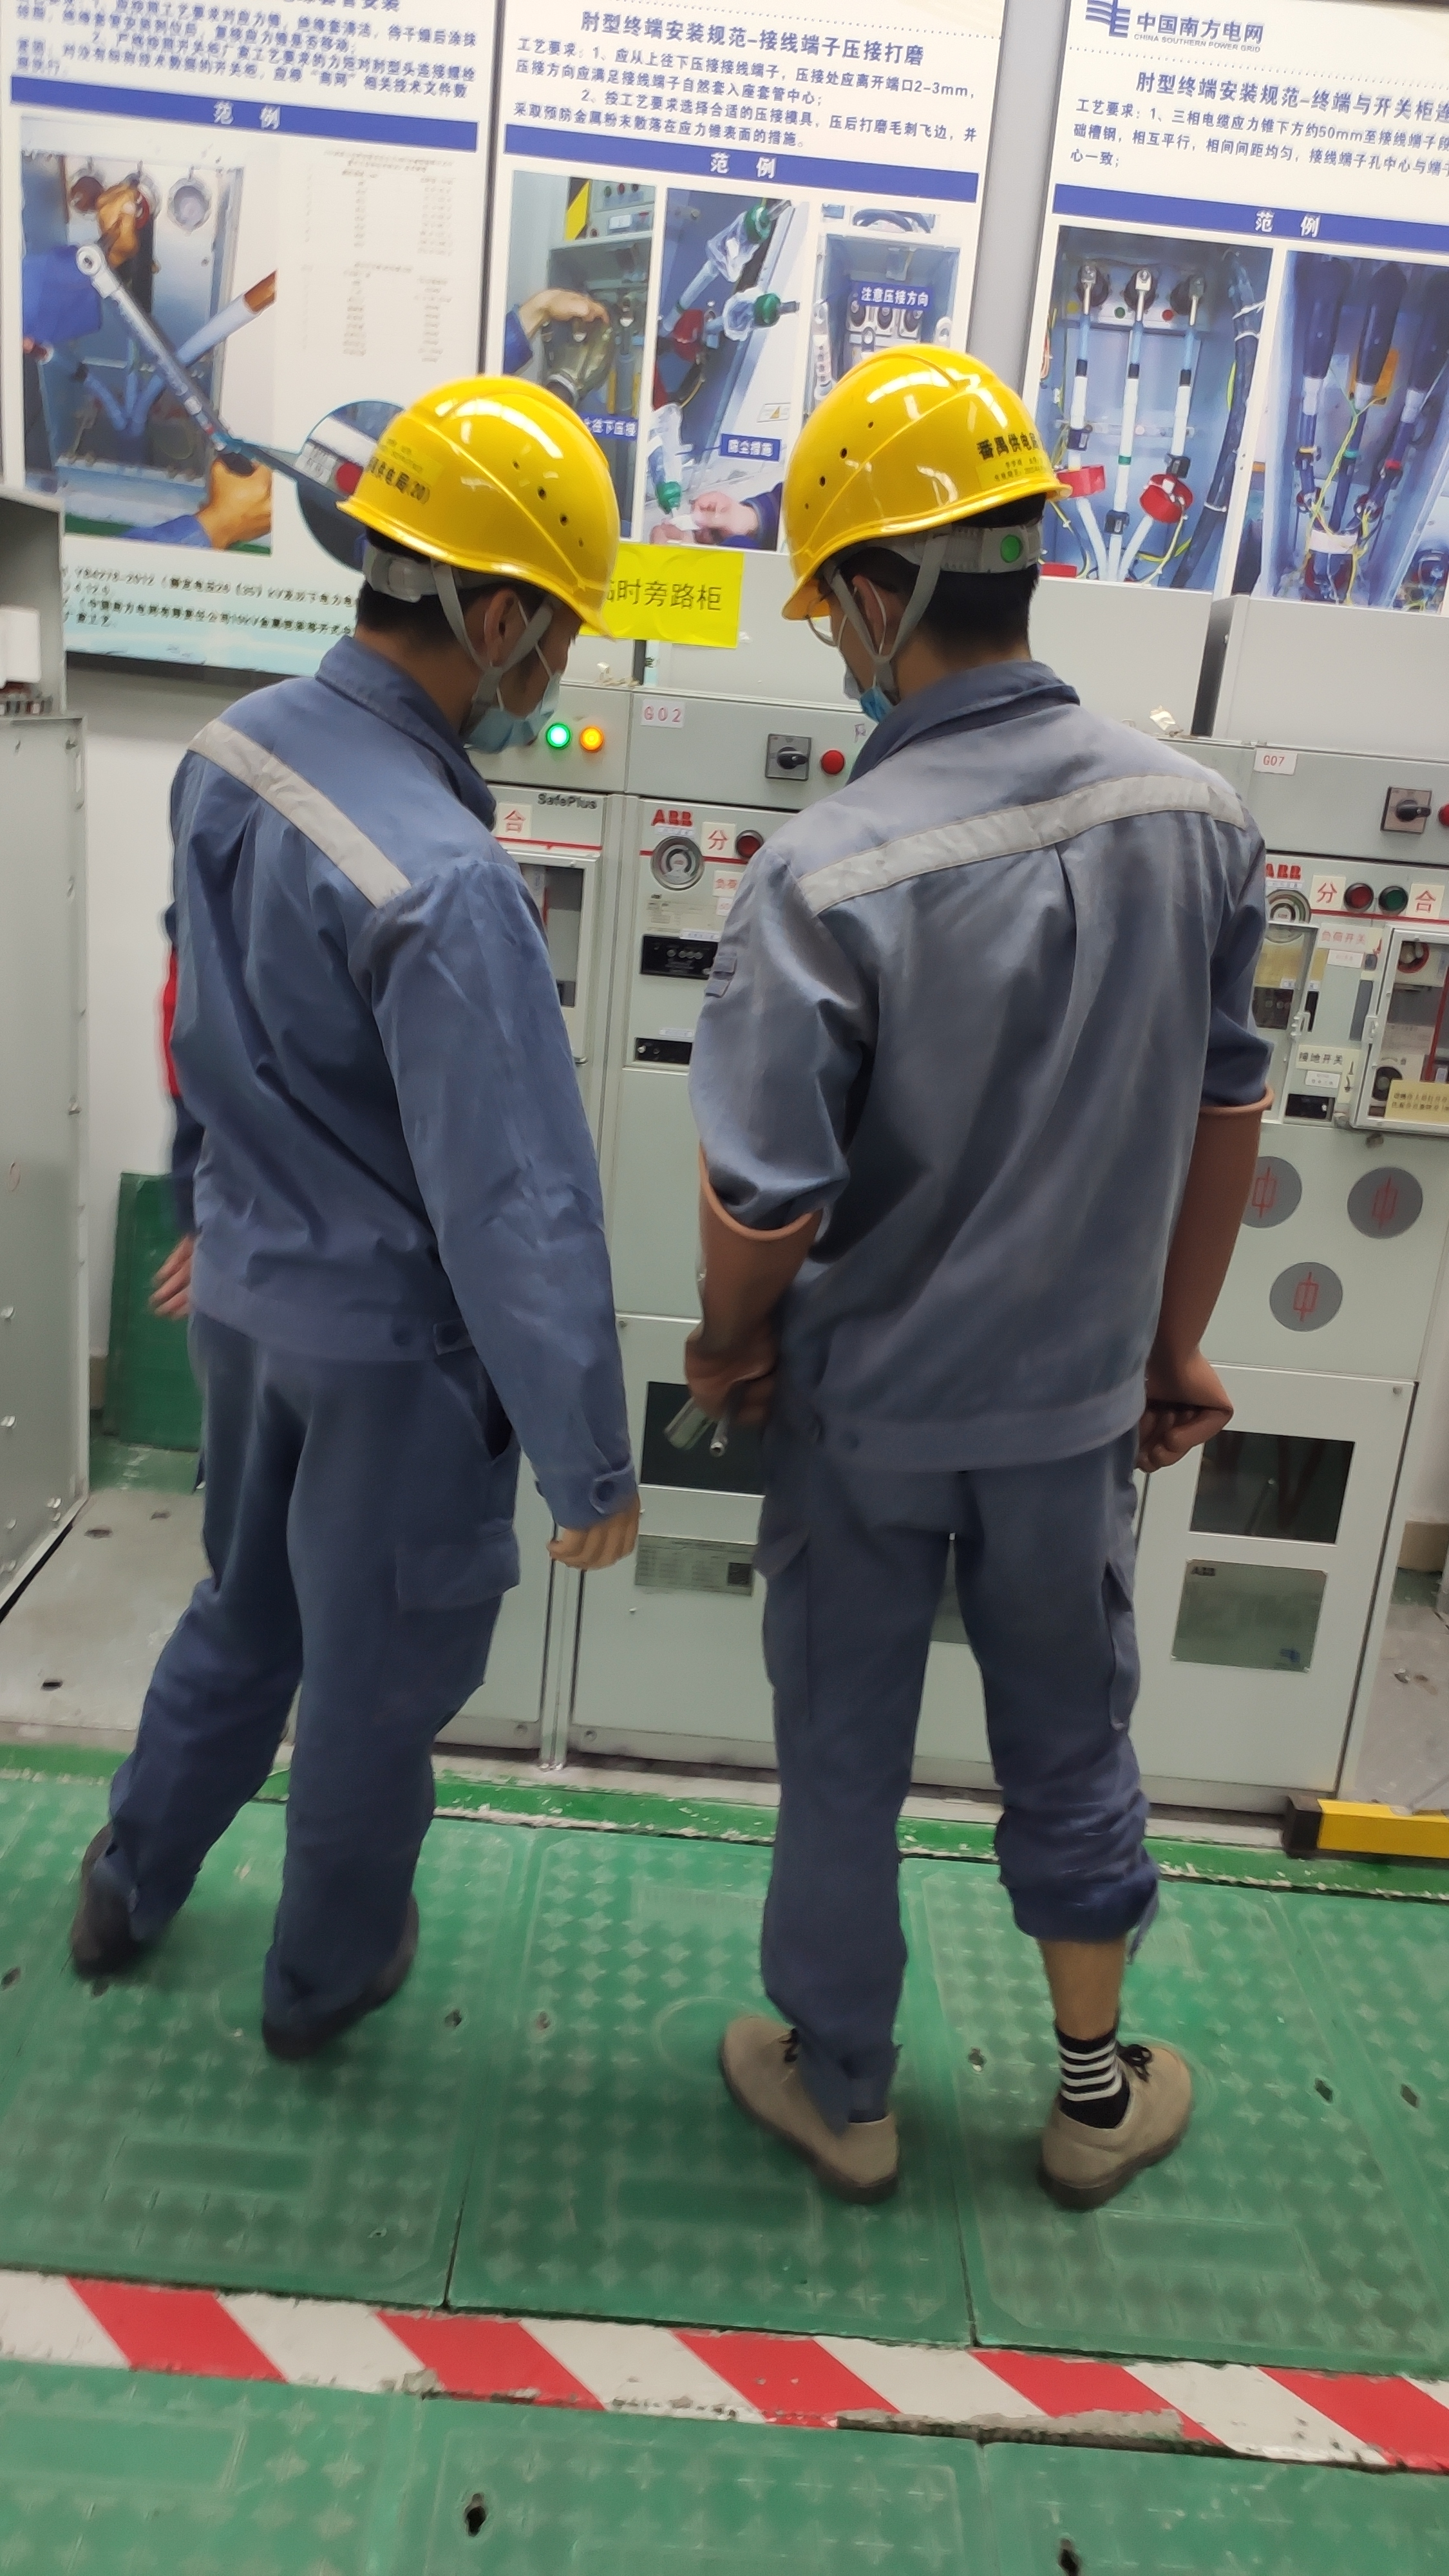downsuit: (107, 1382, 531, 2006), (756, 1466, 1163, 2100)
halt: (773, 345, 1070, 696), (337, 377, 622, 738)
hand: (543, 1502, 643, 1575)
inear: (818, 534, 953, 685), (428, 554, 554, 714)
longglove: (1128, 1099, 1273, 1484), (668, 1190, 828, 1434)
person: (681, 349, 1276, 2217), (79, 369, 641, 2094)
upsuit: (712, 695, 1268, 1472), (163, 647, 633, 1488)
wrongbottom: (1009, 1851, 1154, 2079)
